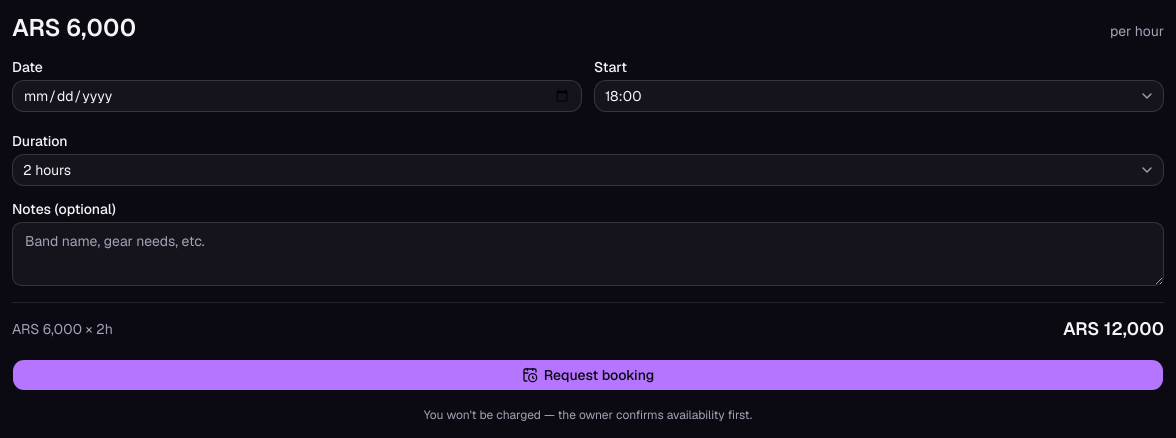
Test: BookingWidget › renders the price, total and lets the user change the duration
Check: the text "ARS 6,000 × 2h" is shown, box [12,319,113,339]
Change the duration select.
Click the dropdown labelled "2 hours": click(53, 170) [12,154,1164,186]
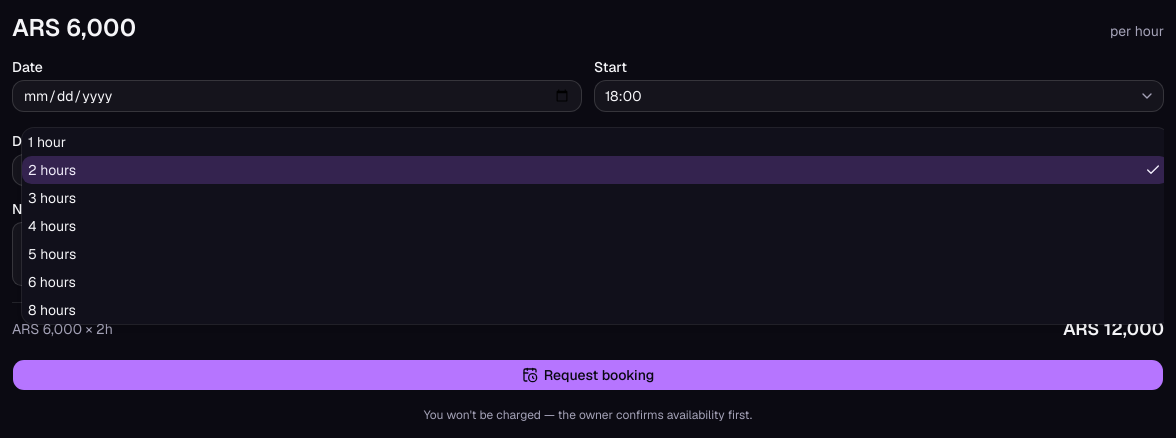
Click the option "1 hour": click(47, 142) [28,133,66,151]
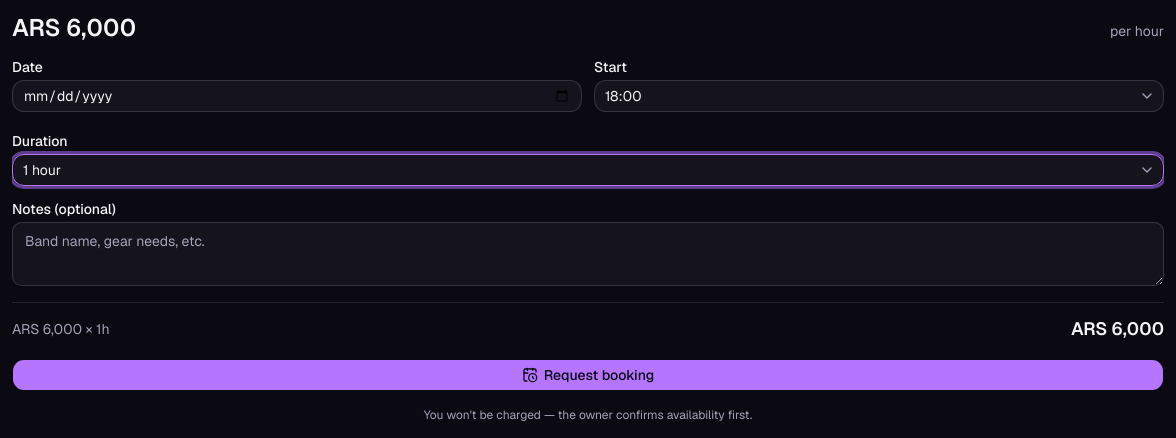
Check: the text "ARS 6,000 × 1h" is shown, box [12,319,110,339]
